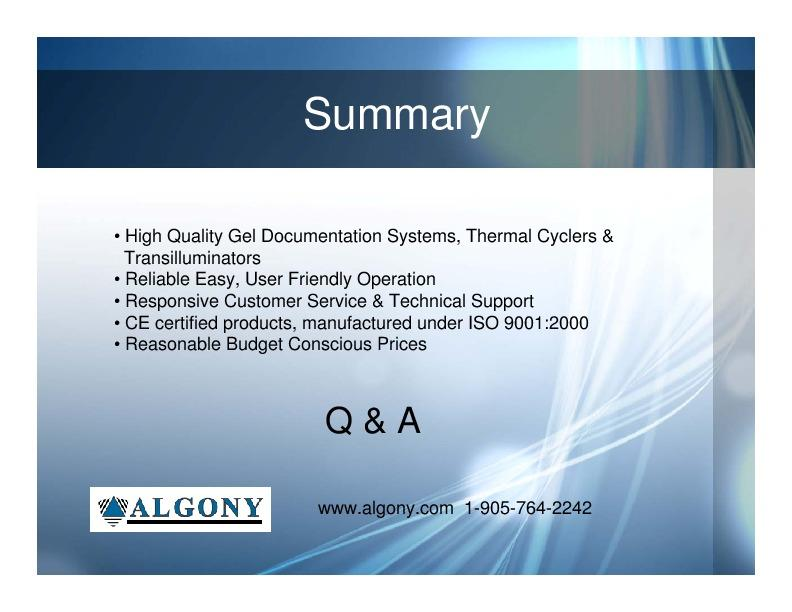paragraph: (93, 206, 659, 385)
title: (299, 85, 498, 143)
